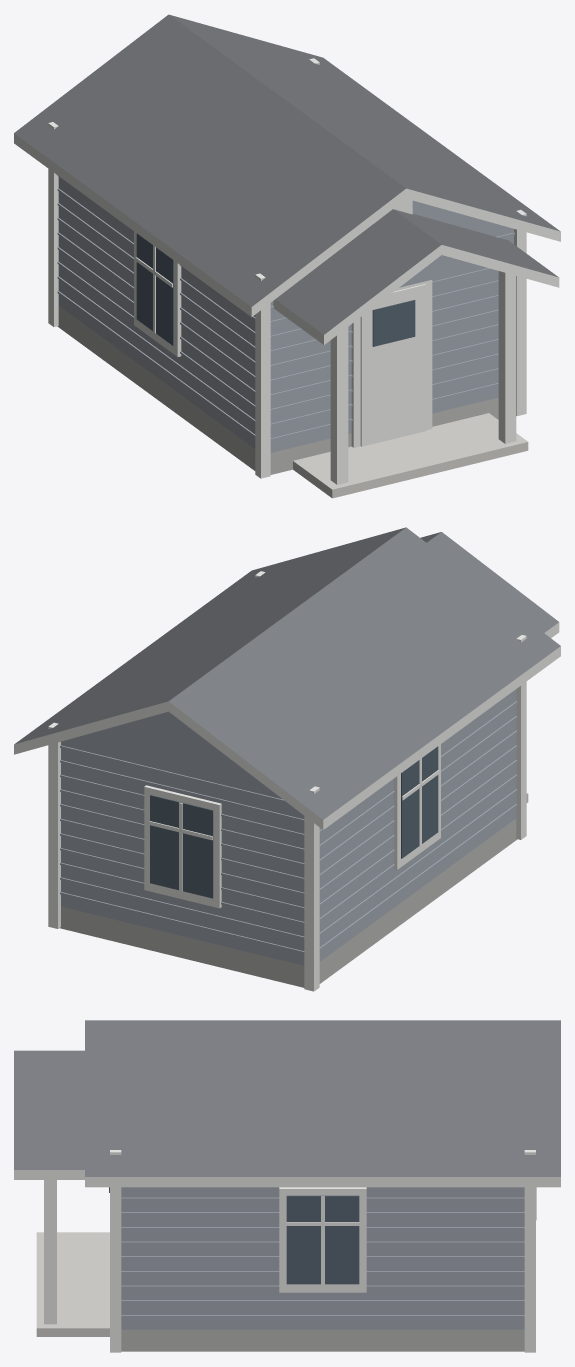
Rendered from pocket-cottage.glb.
The picture shows the model from 3 angles, top to bottom: view 1: azimuth 30°, elevation 25°; view 2: azimuth 150°, elevation 25°; view 3: azimuth 270°, elevation 25°; orthographic projection.
Parts seen in each view (by area): view 1: The Pocket (cottage); view 2: The Pocket (cottage); view 3: The Pocket (cottage).
Part boxes in pixels (box(x1,y1,x2,y2)): The Pocket (cottage): box(14, 14, 560, 498); The Pocket (cottage): box(14, 527, 560, 991); The Pocket (cottage): box(14, 1020, 560, 1352).
Size of the model in its own units: 4.42 by 3.66 by 6.76.
